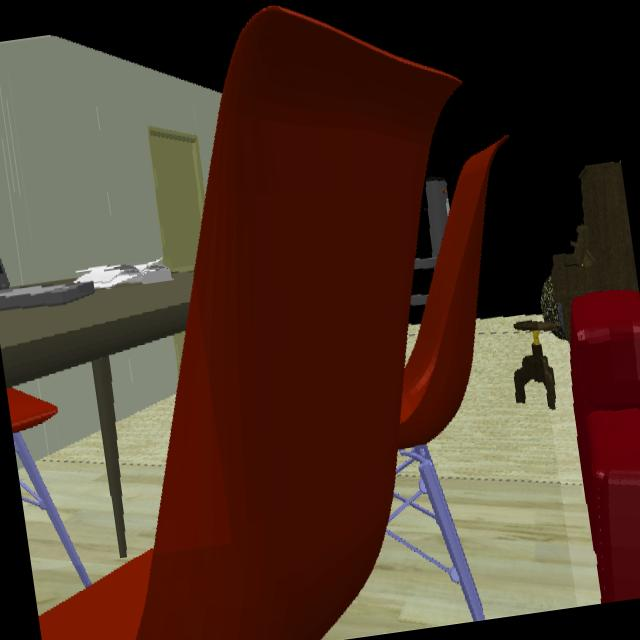book: (77, 260, 173, 290)
chair: (6, 7, 512, 640)
laptop: (0, 257, 96, 311)
sofa: (564, 291, 640, 603)
table: (0, 272, 194, 559)
